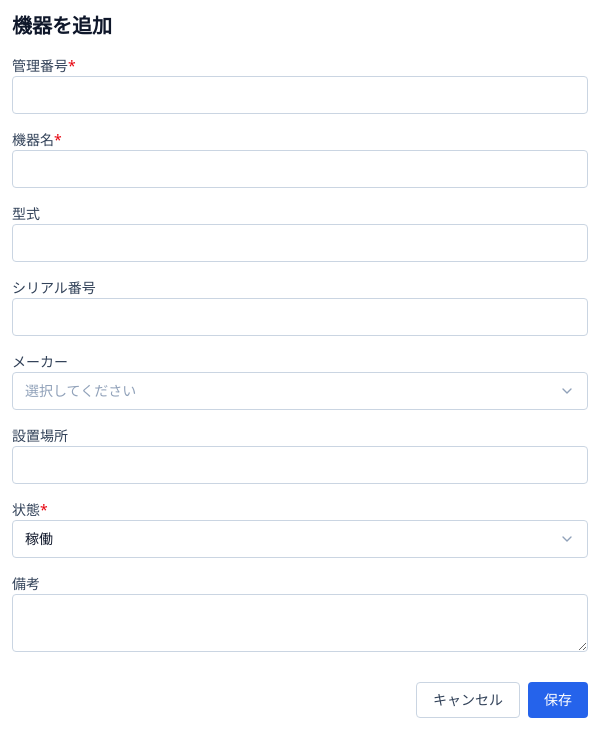
Scenario: EquipmentCreateForm: メーカーセレクト › isManufacturer=true の Vendor のみ選択肢に表示される
Click the dropdown named "メーカー" at (81, 390), box [12,372,588,410]
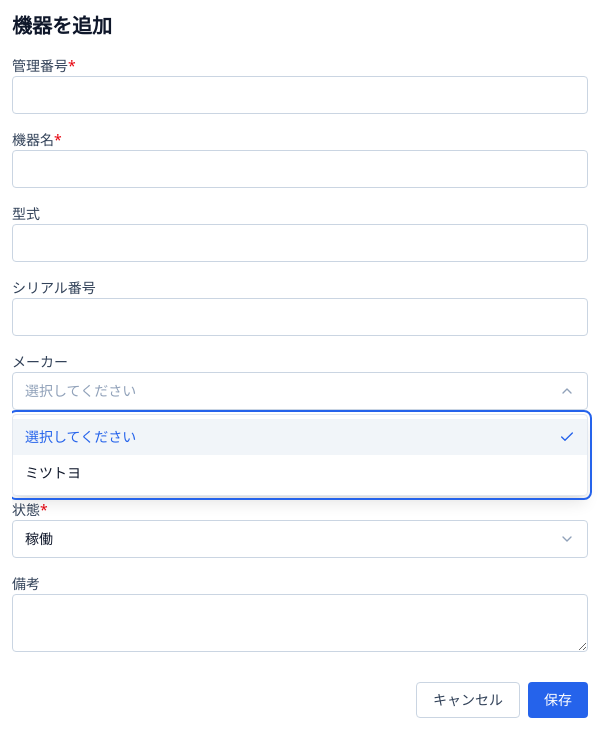
Expected: the option "ミツトヨ" is shown, [13,455,587,491]
